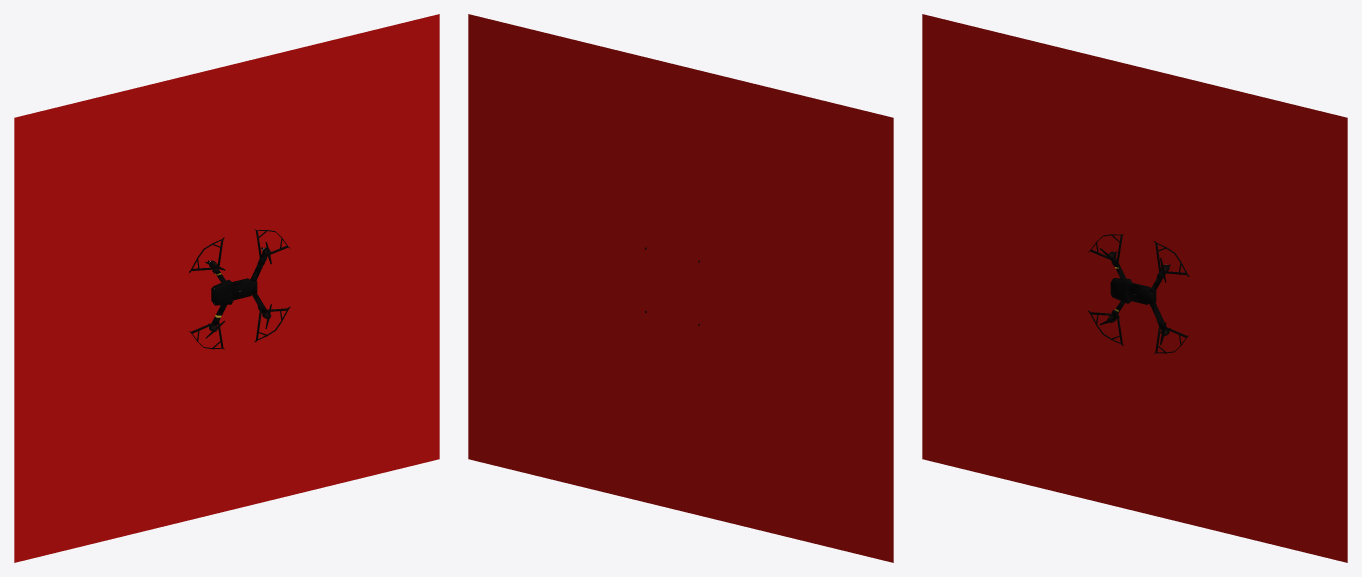
File: Drone E58.obj
The picture shows the model from 3 angles, left to right: view 1: azimuth 30°, elevation 25°; view 2: azimuth 150°, elevation 25°; view 3: azimuth 330°, elevation 25°; orthographic projection.
Visible parts, largest first — view 1: obj1, obj2; view 2: obj1; view 3: obj1, obj2.
Boxes of the visible parts, x1,y1,x2,y2 form: obj1: (14, 14, 439, 562); obj2: (189, 229, 290, 349); obj1: (468, 14, 893, 562); obj1: (922, 14, 1347, 562); obj2: (1088, 234, 1189, 353).
Bounding box in the file's own units: 46.02 × 46.02 × 1.38.
